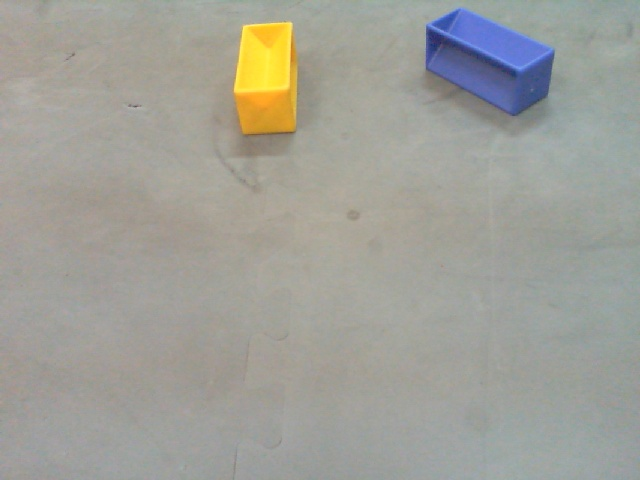BlueSample: (422, 7, 554, 117)
YellowSample: (232, 21, 301, 136)
